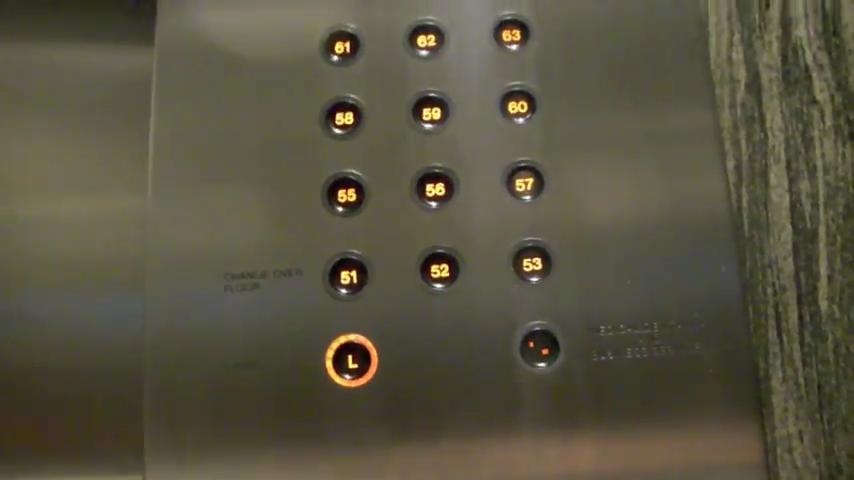51: (320, 249, 373, 301)
52: (417, 246, 462, 293)
53: (506, 237, 559, 287)
55: (319, 168, 372, 218)
56: (408, 164, 461, 212)
57: (501, 158, 550, 205)
58: (318, 94, 368, 139)
59: (403, 89, 455, 133)
60: (495, 81, 542, 128)
61: (319, 23, 366, 67)
62: (402, 16, 450, 60)
63: (488, 12, 533, 54)
L: (324, 333, 378, 388)
blur: (513, 321, 565, 373)
